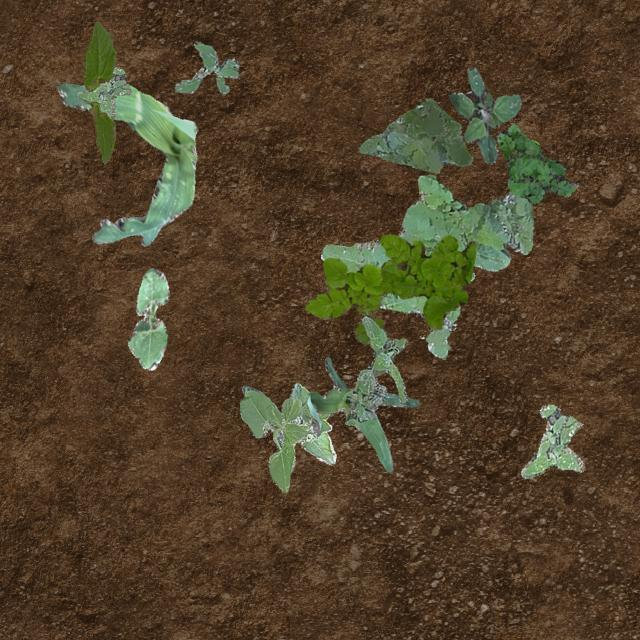crop: (56, 82, 196, 245), (306, 356, 418, 472), (238, 382, 334, 490), (82, 20, 115, 164), (126, 266, 168, 368)
weed: (320, 175, 532, 358), (304, 232, 476, 344), (358, 98, 472, 172), (448, 66, 520, 162), (344, 314, 406, 424), (497, 124, 578, 204), (520, 403, 584, 478), (172, 41, 238, 92), (76, 66, 130, 118)
